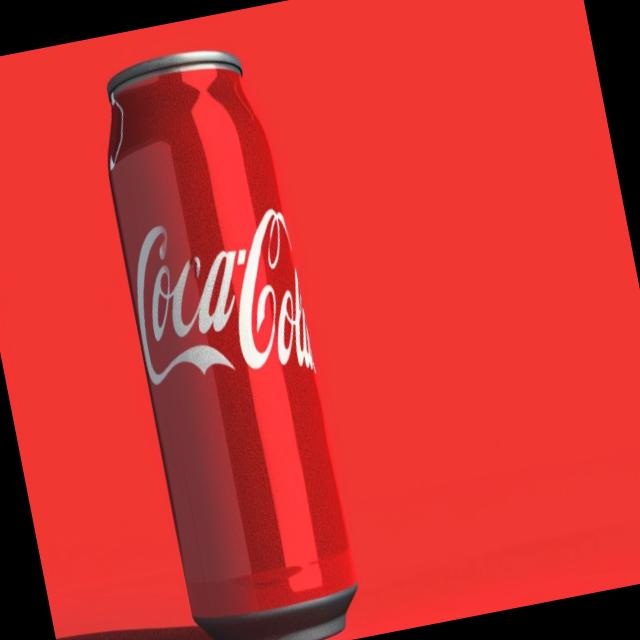cocacola: (81, 26, 376, 640)
